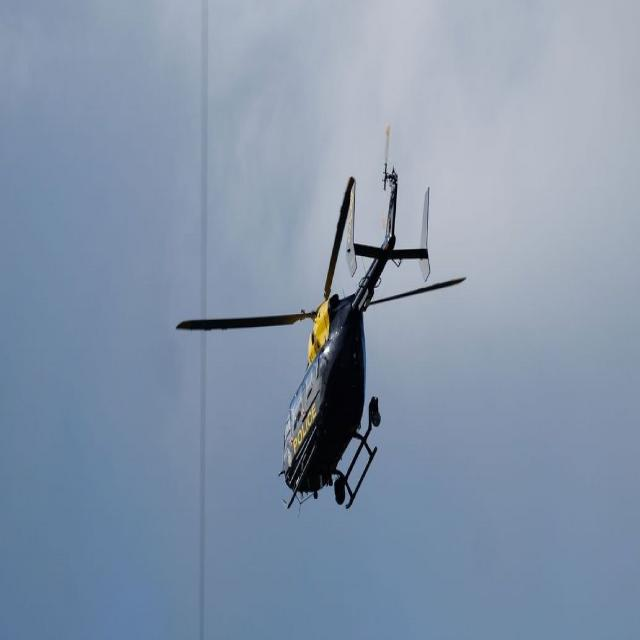helicopter: (182, 123, 469, 532)
